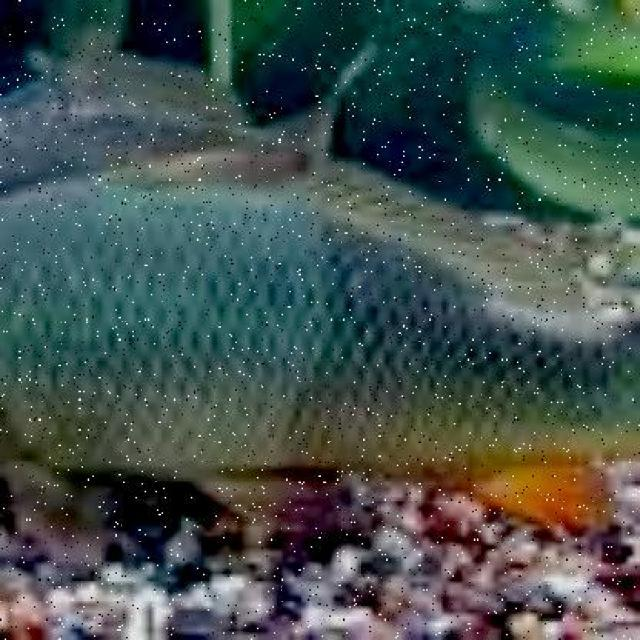ikan-mas: (0, 153, 640, 499)
